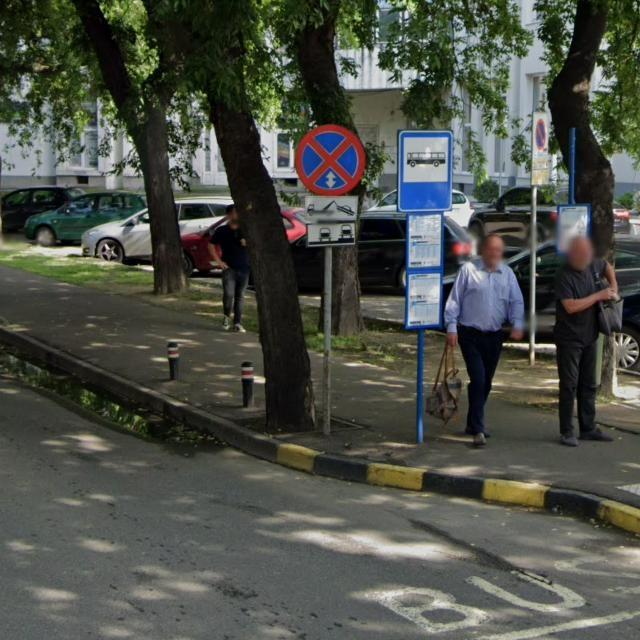forb_waiting: (295, 124, 367, 196)
